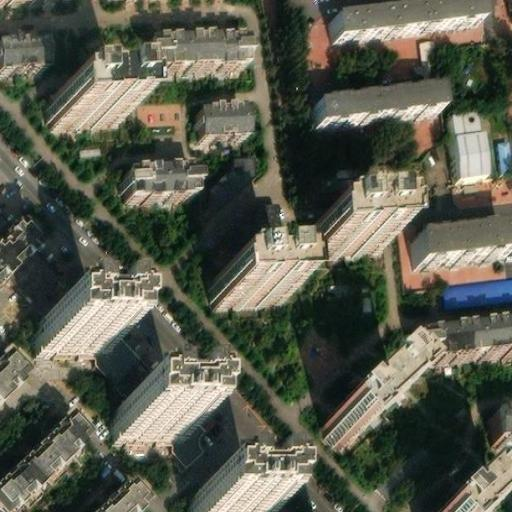building: (80, 330, 189, 408), (320, 366, 401, 449), (329, 0, 477, 35), (313, 83, 443, 122), (220, 197, 282, 273), (411, 320, 512, 362), (412, 222, 509, 261), (149, 32, 243, 67), (303, 211, 379, 254), (211, 265, 285, 303), (42, 81, 114, 120), (451, 105, 492, 171), (163, 407, 213, 461), (39, 277, 101, 316), (441, 473, 500, 512), (447, 177, 512, 212), (122, 166, 193, 198), (444, 271, 512, 301), (89, 478, 148, 512), (45, 316, 114, 344), (0, 224, 35, 279), (121, 407, 189, 435), (196, 101, 246, 136), (0, 41, 45, 71), (490, 408, 512, 442), (494, 139, 512, 174)
